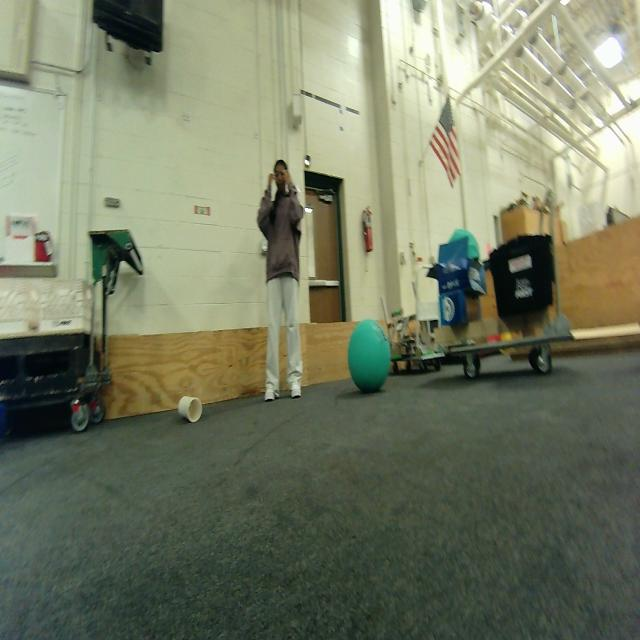algae: (348, 320, 391, 392)
coral: (178, 396, 202, 422)
